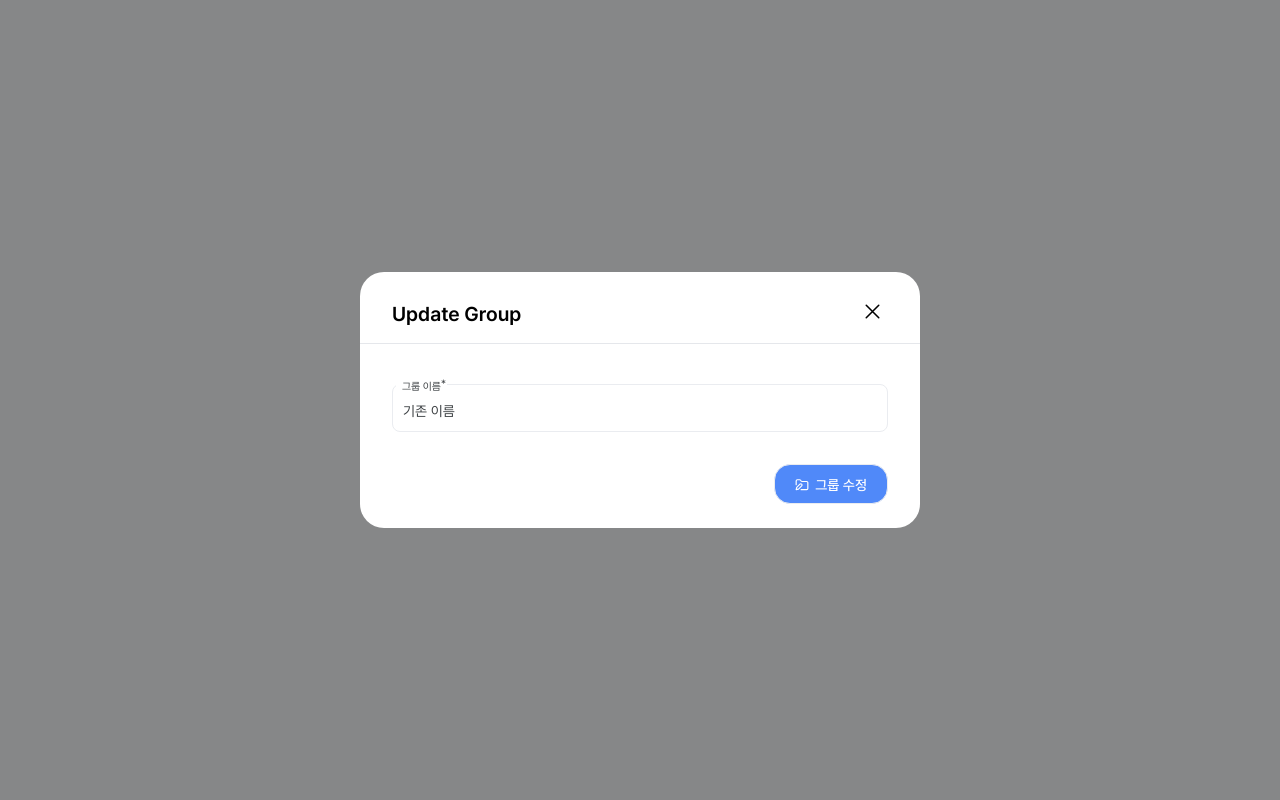
Test: UpdateGroup 컴포넌트 단위 테스트 › 유효성 검사를 통과하지 못하면 에러 메시지가 렌더링 된다.
Replace the text in the field labelled "그룹 이름" with "중복된 그룹 이름" at {"x": 640, "y": 408}, box [392,384,888,432]
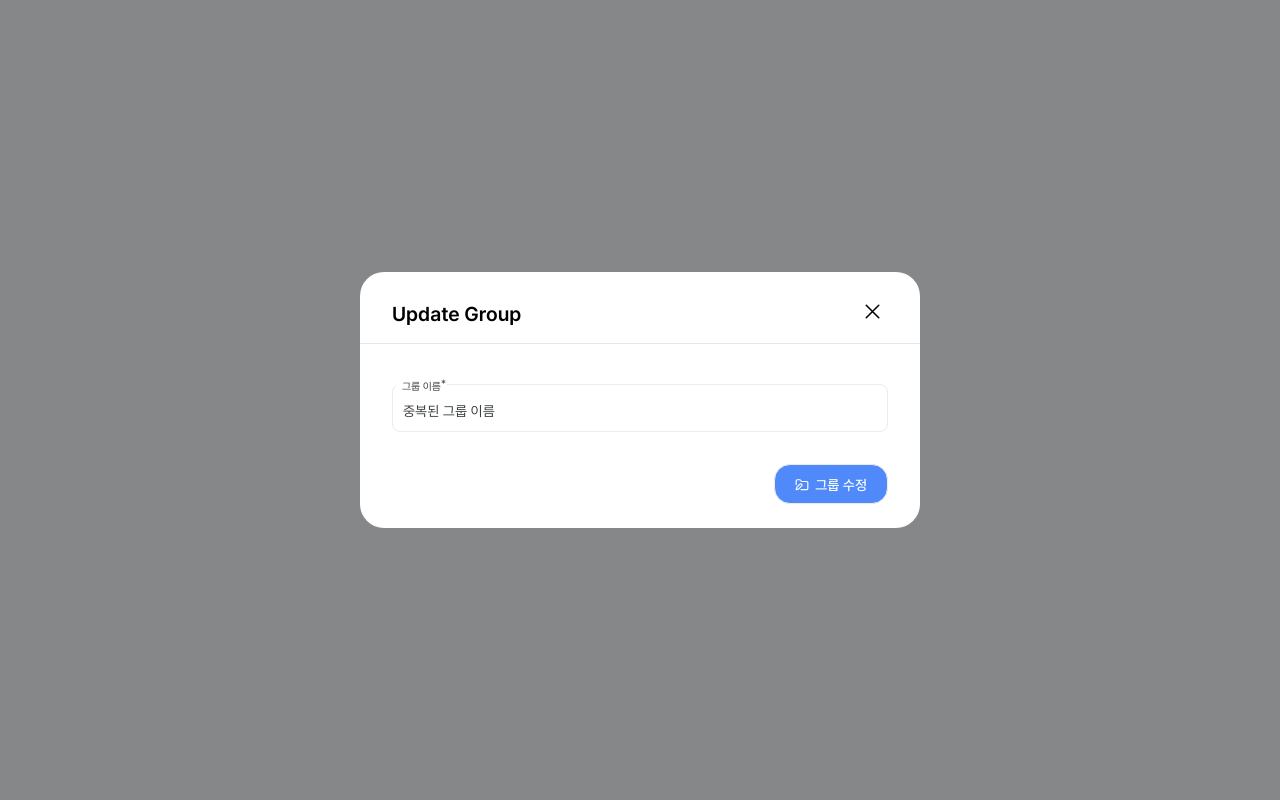
Click the button "그룹 수정" at {"x": 831, "y": 484}, box [774,464,888,504]
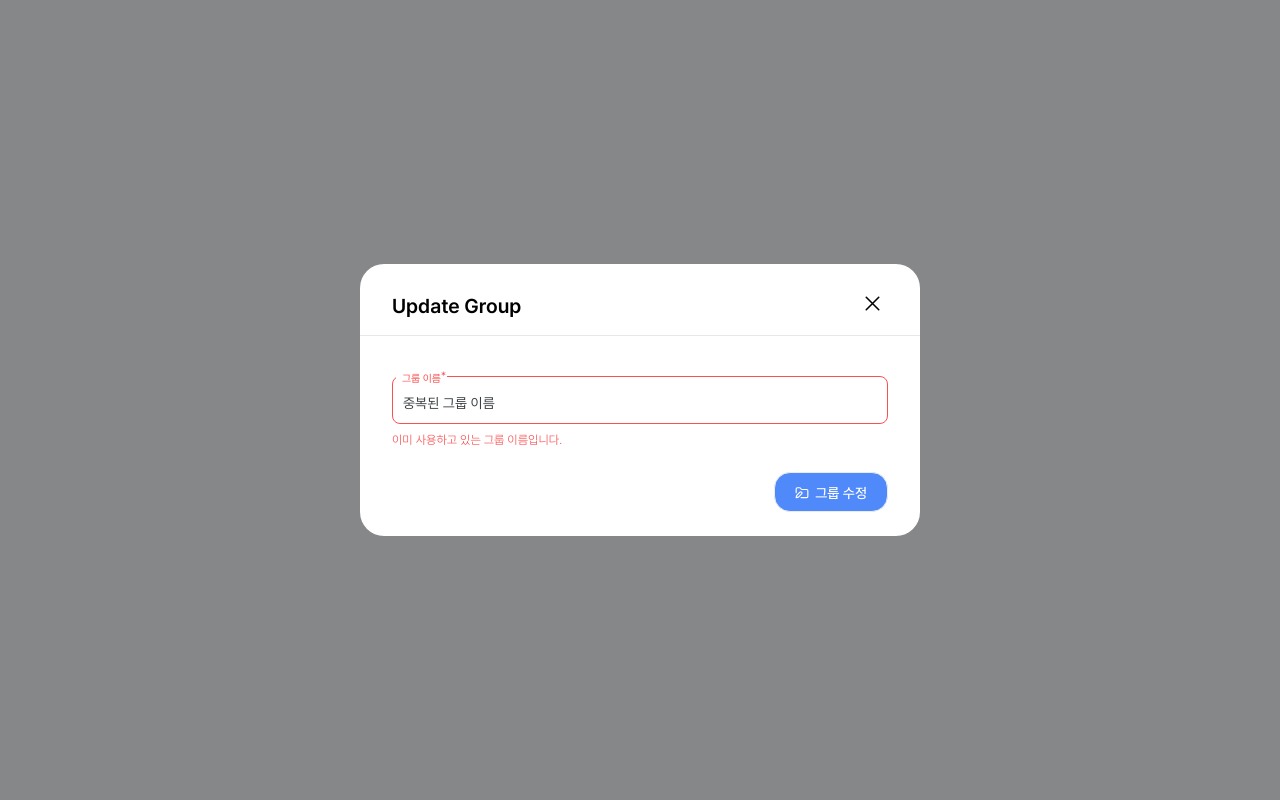
Check: the text "이미 사용하고 있는 그룹 이름입니다." is shown, box [392,433,562,447]
Replace the text in the field labelled "그룹 이름" with "다른 이름" at {"x": 640, "y": 400}, box [392,376,888,424]
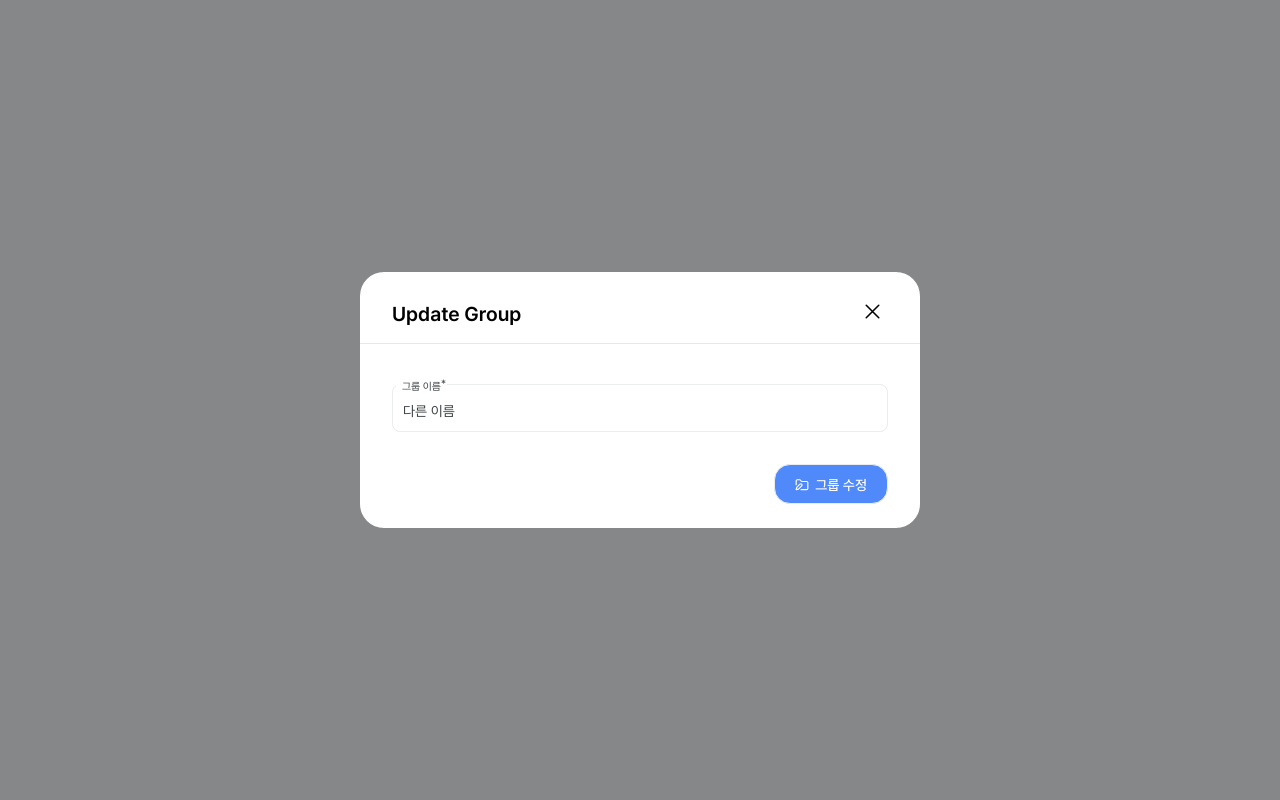
Check: the text "이미 사용하고 있는 그룹 이름입니다." is gone
